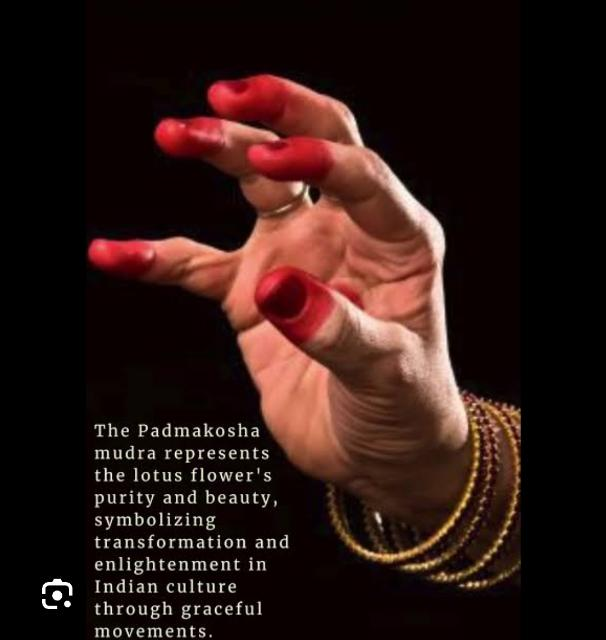padamkosh: (87, 75, 470, 503)
